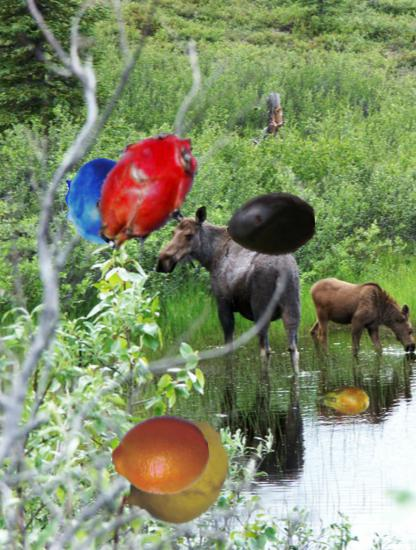Cactus: (316, 373, 371, 428)
Huckleberry: (57, 158, 144, 245)
Lemon: (120, 414, 238, 532)
Pitahaya: (78, 120, 212, 254)
Plum: (226, 180, 316, 270)
Tangelo: (111, 407, 209, 505)
